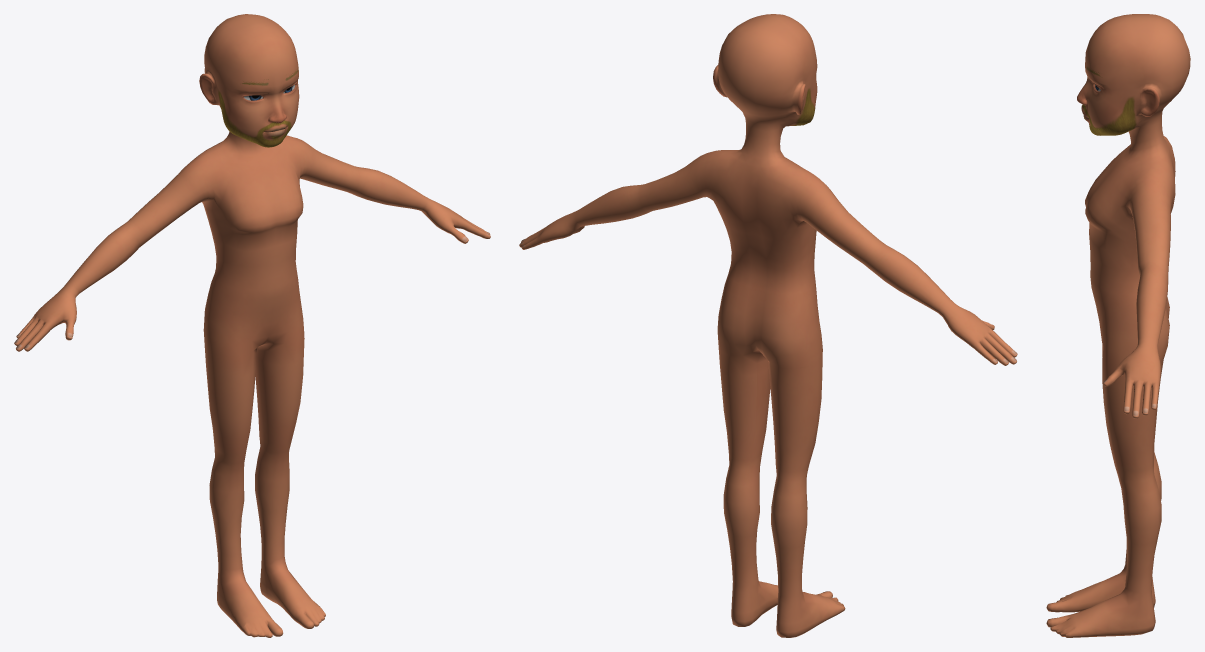
The model's file is frame_0087.glb.
3 views of the same model, side by side, from view 1: azimuth 30°, elevation 25°; view 2: azimuth 150°, elevation 25°; view 3: azimuth 270°, elevation 25° (orthographic). The views are drawn at different scales.
Visible parts, largest first — view 1: frame_0087_head_geo; view 2: frame_0087_head_geo; view 3: frame_0087_head_geo.
Part boxes in pixels (x1,y1,x2,y2): frame_0087_head_geo: (14, 14, 490, 637); frame_0087_head_geo: (519, 14, 1017, 637); frame_0087_head_geo: (1046, 14, 1190, 637).
Size of the model in its own units: 1.28 by 1.5 by 0.3253.
3 materials, 3 textured.
